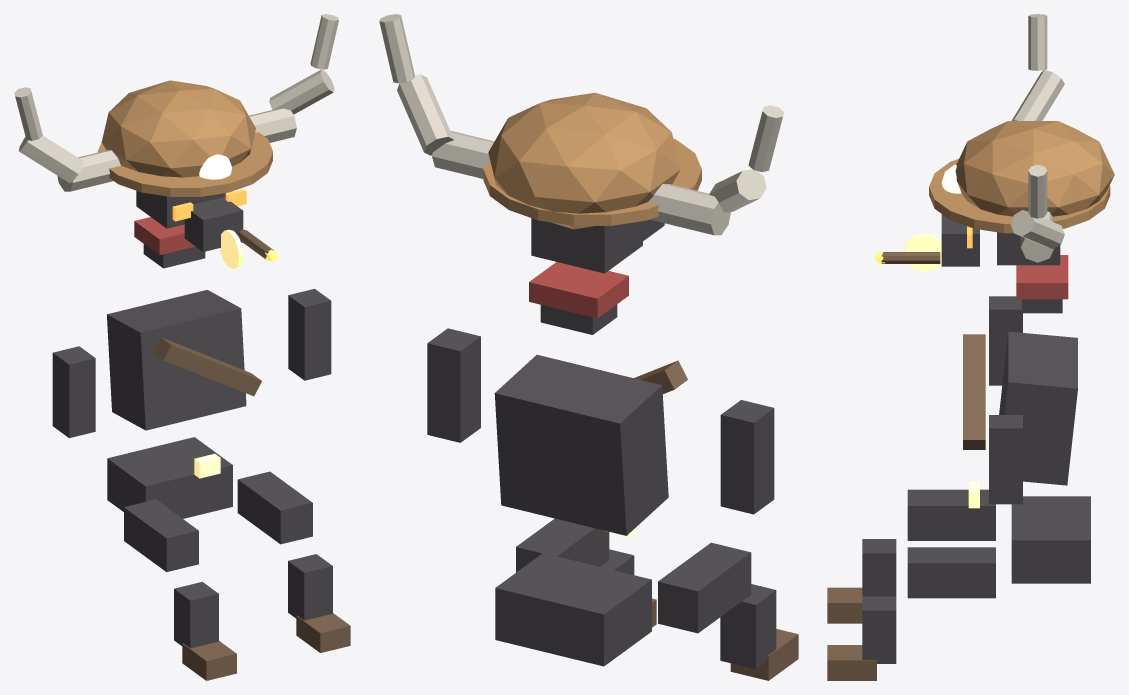
Rendered from inferno_bull_placeholder.glb.
The picture shows the model from 3 angles, left to right: view 1: azimuth 30°, elevation 25°; view 2: azimuth 150°, elevation 25°; view 3: azimuth 270°, elevation 25°; orthographic projection. The views are drawn at different scales.
Parts seen in each view (by area): view 1: Torso, HardHat, Hips, Thigh+1, Thigh-1, HatBrim, Arm-1, Arm+1, Shin+1, Shin-1, Bandolier, Muzzle (+14 smaller); view 2: Torso, HardHat, Hips, Thigh-1, Arm-1, Arm+1, Skull, Bandana, Shin-1, HatBrim, Thigh+1, HornA-1 (+8 smaller); view 3: HardHat, Torso, Hips, Thigh+1, Thigh-1, Arm+1, HatBrim, Bandolier, Shin+1, Arm-1, Shin-1, Bandana (+12 smaller).
Part boxes in pixels (bbox=[...]): Torso: bbox=[107, 290, 246, 430]; HardHat: bbox=[101, 80, 255, 177]; Hips: bbox=[107, 437, 232, 518]; Thigh+1: bbox=[237, 471, 312, 544]; Thigh-1: bbox=[124, 499, 198, 572]; HatBrim: bbox=[97, 132, 272, 196]; Arm-1: bbox=[52, 346, 95, 438]; Arm+1: bbox=[288, 288, 331, 380]; Shin+1: bbox=[288, 554, 332, 620]; Shin-1: bbox=[174, 582, 218, 648]; Bandolier: bbox=[152, 337, 261, 396]; Muzzle: bbox=[184, 197, 243, 251]; Torso: bbox=[494, 354, 668, 535]; HardHat: bbox=[488, 92, 680, 229]; Hips: bbox=[495, 553, 651, 666]; Thigh-1: bbox=[658, 542, 751, 633]; Arm-1: bbox=[720, 400, 774, 514]; Arm+1: bbox=[427, 328, 480, 442]; Skull: bbox=[531, 218, 642, 273]; Bandana: bbox=[529, 262, 628, 318]; Shin-1: bbox=[720, 584, 776, 669]; HatBrim: bbox=[483, 138, 701, 225]; Thigh+1: bbox=[516, 518, 609, 572]; HornA-1: bbox=[648, 184, 730, 235]; HardHat: bbox=[955, 121, 1114, 216]; Torso: bbox=[999, 331, 1077, 485]; Hips: bbox=[1011, 496, 1090, 583]; Thigh+1: bbox=[907, 547, 995, 598]; Thigh-1: bbox=[907, 489, 995, 540]; Arm+1: bbox=[989, 415, 1022, 504]; HatBrim: bbox=[929, 159, 1110, 233]; Bandolier: bbox=[963, 334, 985, 449]; Shin+1: bbox=[862, 596, 896, 663]; Arm-1: bbox=[989, 296, 1022, 385]; Shin-1: bbox=[862, 539, 896, 596]; Bandana: bbox=[1016, 255, 1068, 299].
Bounding box in the file's own units: 1.7 × 2.7 × 1.27.
